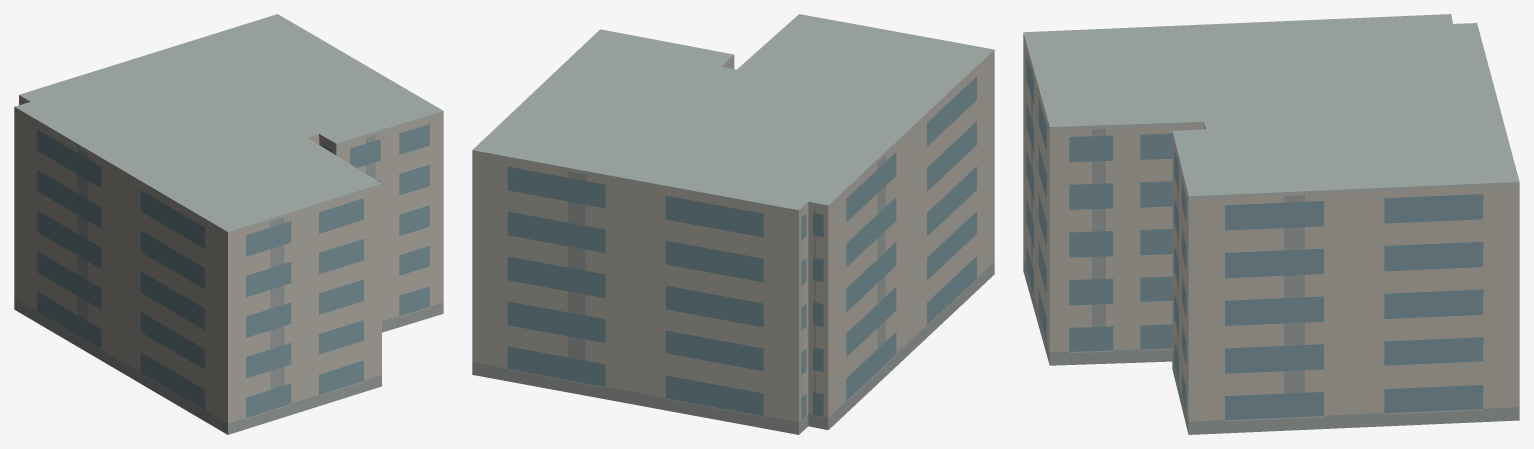
Rendered from survey-upis-32664209.glb.
The picture shows the model from 3 angles, left to right: view 1: azimuth 30°, elevation 25°; view 2: azimuth 150°, elevation 25°; view 3: azimuth 270°, elevation 25°; orthographic projection. The views are drawn at different scales.
Visible parts, largest first — view 1: survey-upis-32664209.tmp; view 2: survey-upis-32664209.tmp; view 3: survey-upis-32664209.tmp.
Boxes of the visible parts, x1=… form: survey-upis-32664209.tmp: x1=14, y1=14, x2=443, y2=434; survey-upis-32664209.tmp: x1=472, y1=14, x2=994, y2=434; survey-upis-32664209.tmp: x1=1023, y1=14, x2=1519, y2=434.
Size of the model in its own units: 25 by 15.25 by 28.76.
